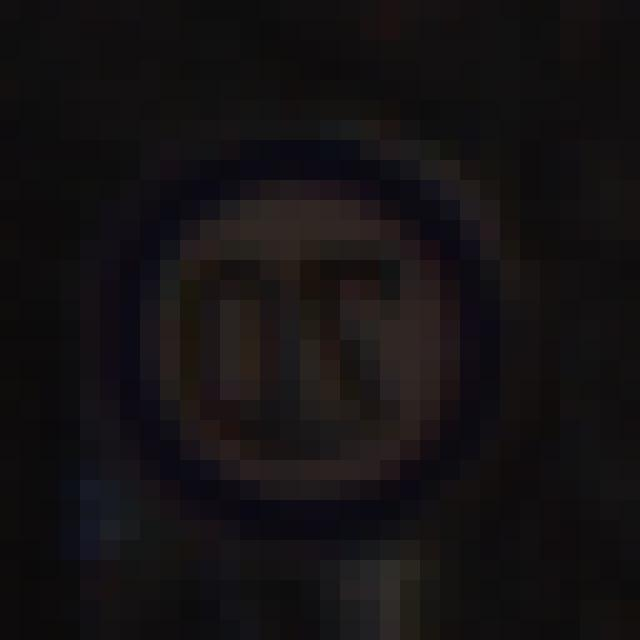SPEED LIMIT 70: (110, 152, 508, 510)
